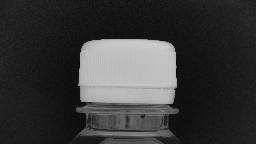Good Cap: (70, 34, 188, 118)
